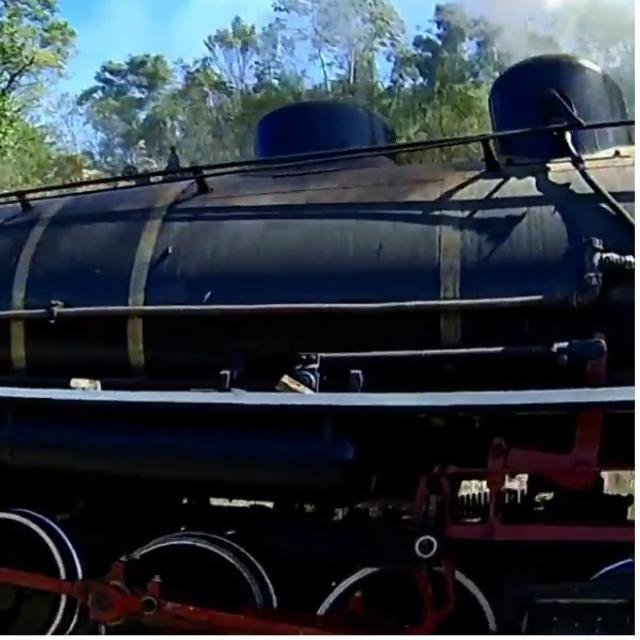Smoke: (442, 8, 640, 86)
